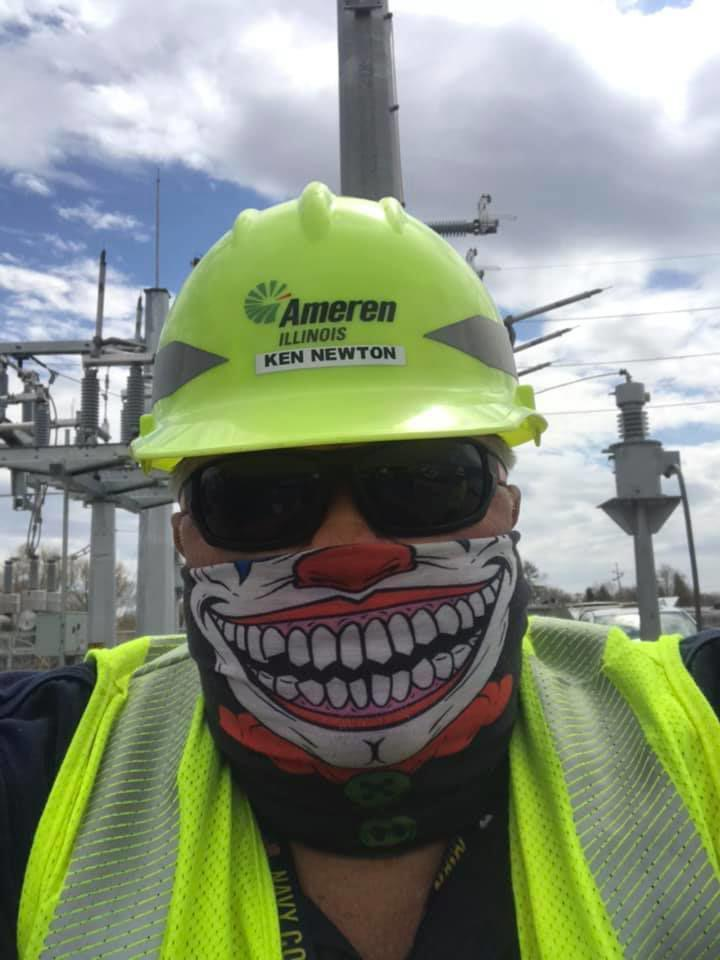helmet: (121, 184, 547, 457)
